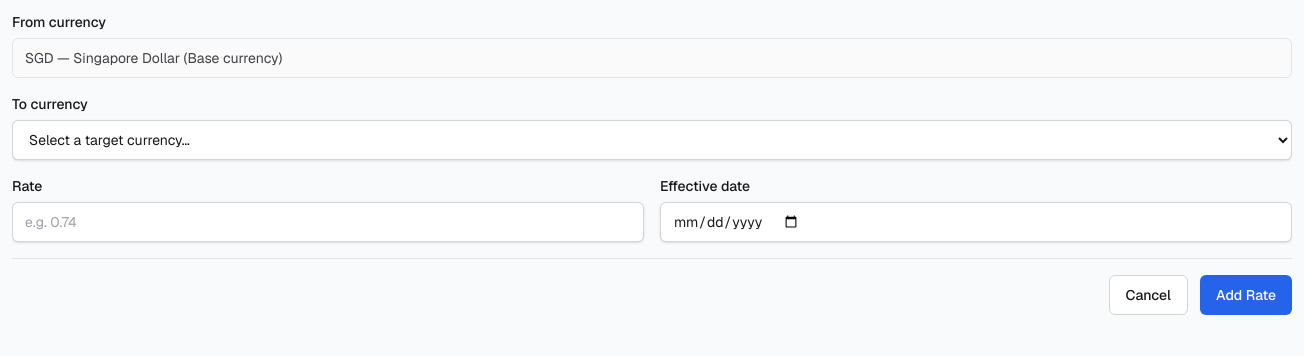
Test: ExchangeRateForm › rejects a zero rate
The width and height of the screenshot is (1304, 356).
Expected: the text "SGD — Singapore Dollar (Base currency)" is shown, [12,38,1292,78]
Select "USD — US Dollar" in the dropdown labelled "To currency" at (652, 140), box [12,120,1292,160]
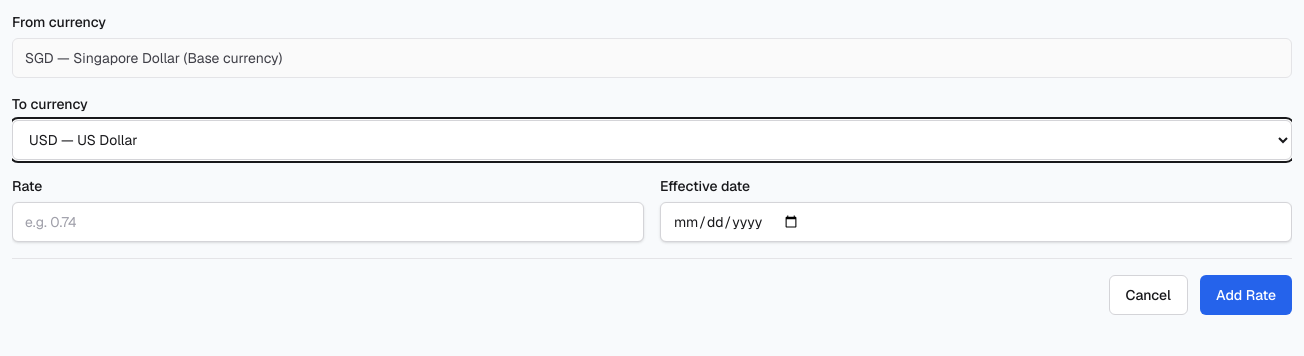
Type "0" into the number field labelled "Rate" at (328, 222), box [12,202,644,242]
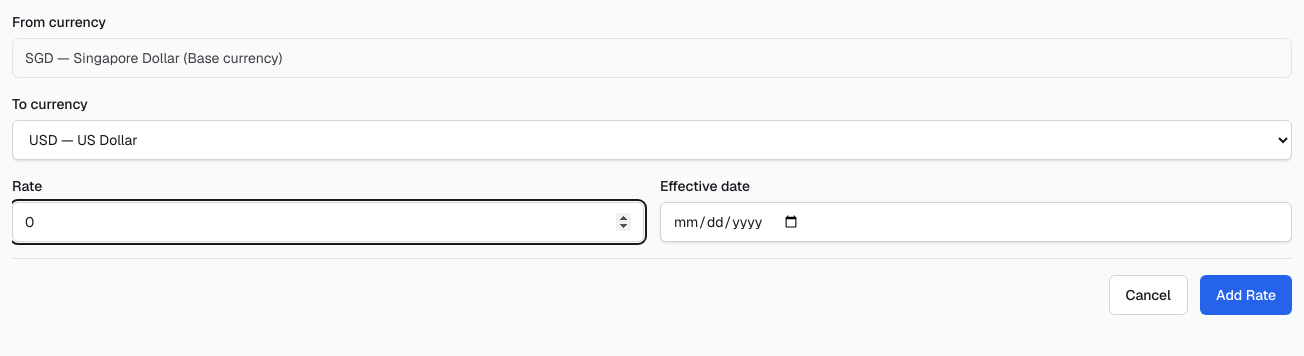
Type "2025-01-01" into the date field labelled "Effective date" at (976, 222), box [660,202,1292,242]
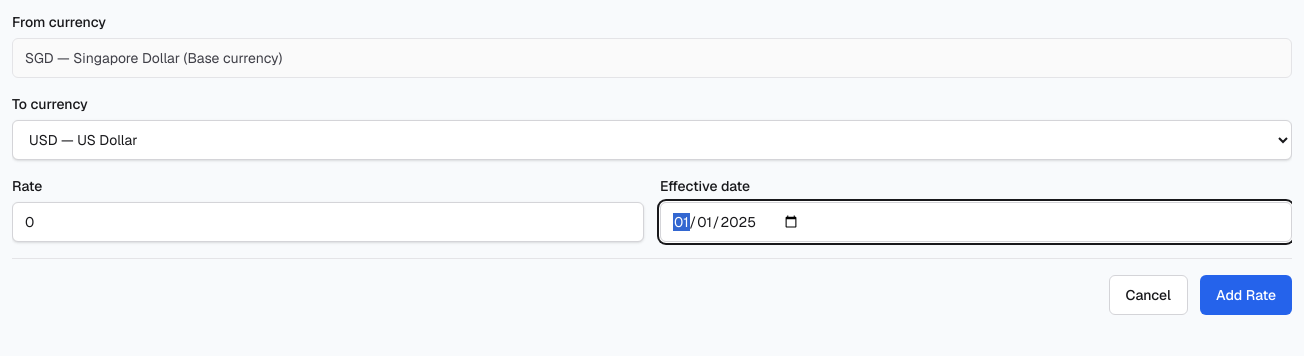
Click the button "Add Rate" at (1246, 295), box [1200,275,1292,315]
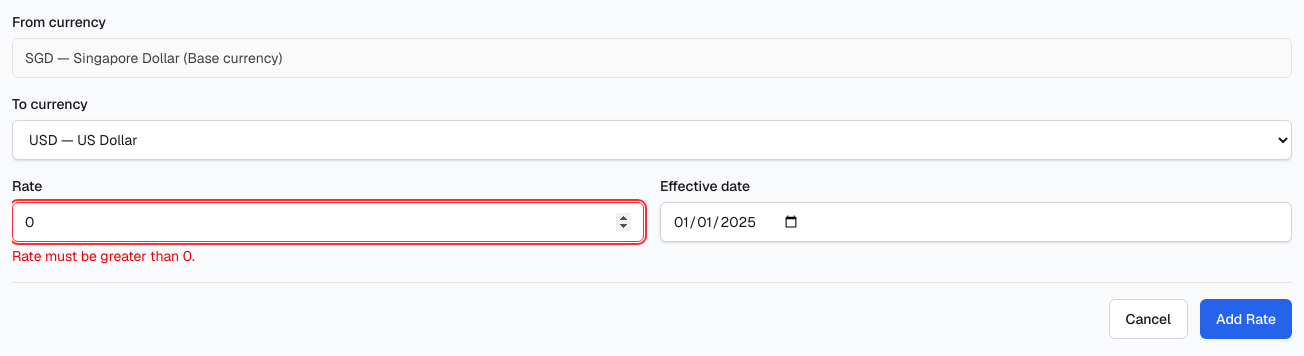
Expected: the text "Rate must be greater than 0." is shown, [12,247,195,265]
